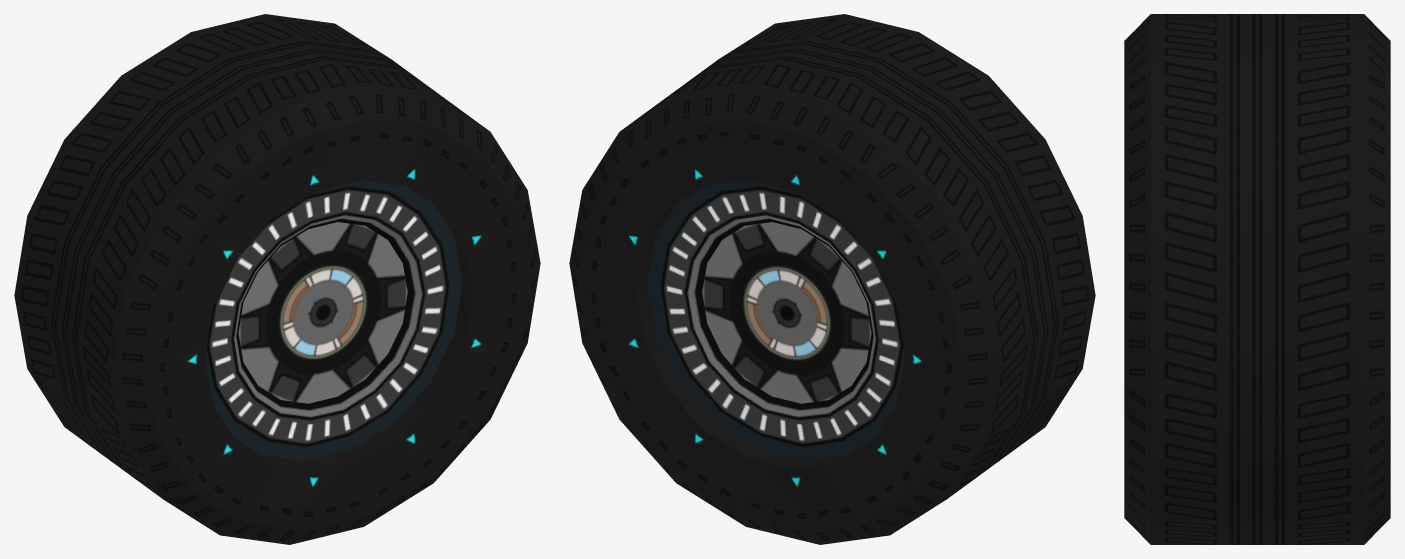
Rendered from car_wheel.glb.
The picture shows the model from 3 angles, left to right: view 1: azimuth 30°, elevation 25°; view 2: azimuth 150°, elevation 25°; view 3: azimuth 270°, elevation 25°; orthographic projection. The views are drawn at different scales.
Parts seen in each view (by area): view 1: car_wheel; view 2: car_wheel; view 3: car_wheel.
Boxes of the visible parts, x1,y1,x2,y2 form: car_wheel: [14, 14, 540, 544]; car_wheel: [569, 14, 1095, 544]; car_wheel: [1124, 14, 1390, 544].
Size of the model in its own units: 0.8 by 0.7878 by 0.4.
1 material, 1 textured.
